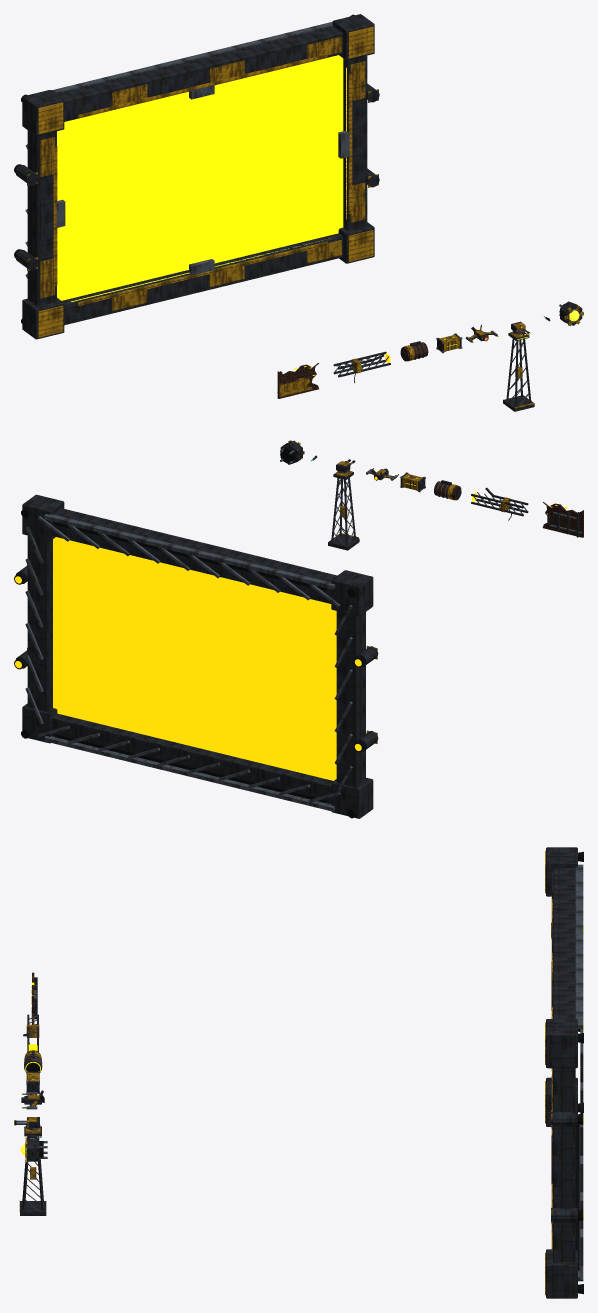
File: end2-approach-kit.glb
3 views of the same model, one above another, from view 1: azimuth 30°, elevation 25°; view 2: azimuth 150°, elevation 25°; view 3: azimuth 270°, elevation 25° (orthographic). The views are drawn at different scales.
Parts seen in each view (by area): view 1: gate_field, gt_h1, gt_h-1, gt_v-1, gt_v1, gt_hb1, gt_lip_h-1, gt_lip_h1, gt_c-11, gt_c-1-1, gt_c11, gt_ch-11 (+24 smaller); view 2: gate_field, gt_h-1, gt_h1, gt_v-1, gt_v1, gt_hb1, gt_hb-1, gt_c-11, gt_c-1-1, gt_tray-1, gt_c11, gt_c1-1 (+2 smaller); view 3: gt_v1, gt_h1, gt_c11, gt_hb1, gt_c1-1, gt_c-11, gt_tray-1.
Boxes of the visible parts, x1,y1,x2,y2 form: gate_field: [57, 55, 343, 300]; gt_h1: [56, 26, 343, 121]; gt_h-1: [62, 233, 343, 325]; gt_v-1: [27, 130, 56, 306]; gt_v1: [343, 55, 367, 230]; gt_hb1: [52, 22, 332, 93]; gt_lip_h-1: [78, 241, 327, 305]; gt_lip_h1: [78, 54, 327, 118]; gt_c-11: [22, 90, 64, 135]; gt_c-1-1: [22, 298, 64, 339]; gt_c11: [332, 14, 374, 60]; gt_ch-11: [38, 102, 63, 134]; gate_field: [53, 537, 336, 780]; gt_h-1: [51, 713, 332, 804]; gt_h1: [51, 508, 337, 603]; gt_v-1: [336, 611, 365, 787]; gt_v1: [27, 535, 52, 711]; gt_hb1: [44, 514, 335, 589]; gt_hb-1: [44, 736, 335, 811]; gt_c-11: [331, 570, 373, 616]; gt_c-1-1: [331, 777, 373, 818]; gt_tray-1: [54, 732, 327, 803]; gt_c11: [22, 494, 64, 540]; gt_c1-1: [22, 703, 57, 743]; gt_v1: [553, 1068, 575, 1262]; gt_h1: [553, 868, 575, 1018]; gt_c11: [546, 1019, 577, 1068]; gt_hb1: [575, 864, 583, 1028]; gt_c1-1: [546, 1249, 577, 1298]; gt_c-11: [546, 847, 577, 896]; gt_tray-1: [575, 1124, 579, 1270].
Size of the model in its own units: 122 by 77 by 150.
10 materials, 5 textured.
